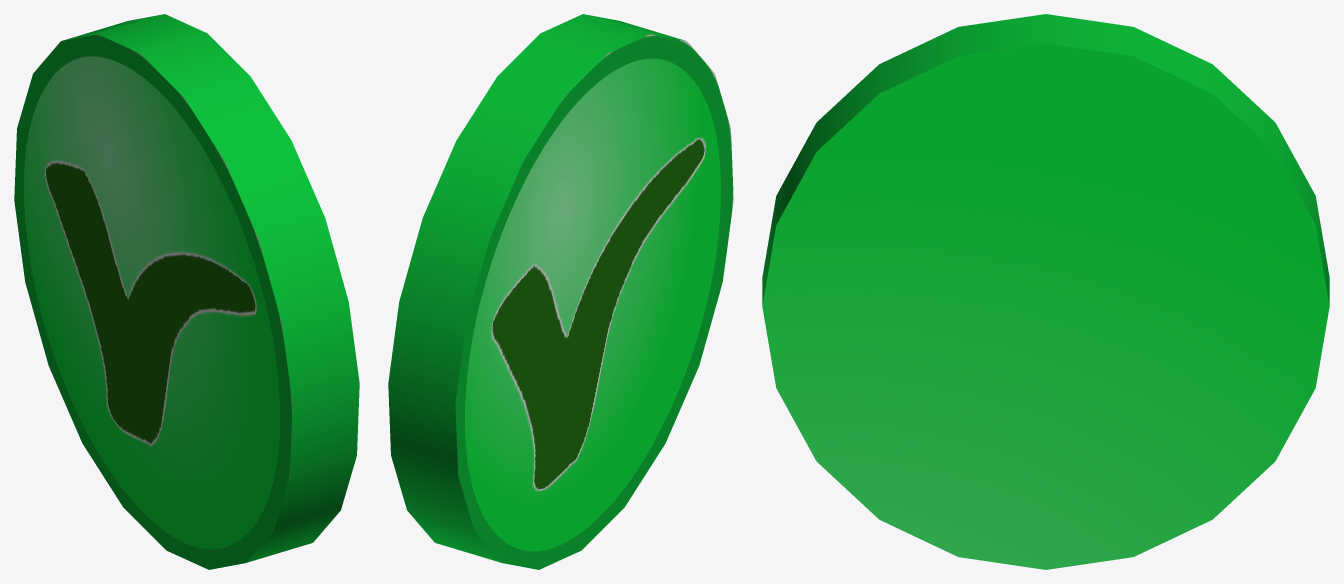
Rendered from YesButton.fbx.
The picture shows the model from 3 angles, left to right: view 1: azimuth 30°, elevation 25°; view 2: azimuth 150°, elevation 25°; view 3: azimuth 270°, elevation 25°; orthographic projection.
Parts seen in each view (by area): view 1: pCylinder2; view 2: pCylinder2; view 3: pCylinder2.
Part boxes in pixels (x1=…): pCylinder2: x1=14, y1=14, x2=359, y2=569; pCylinder2: x1=388, y1=14, x2=733, y2=569; pCylinder2: x1=762, y1=14, x2=1329, y2=569.
Bounding box in the file's own units: 0.3887 × 2.01 × 2.
Materials: 1 (1 with a texture image).
